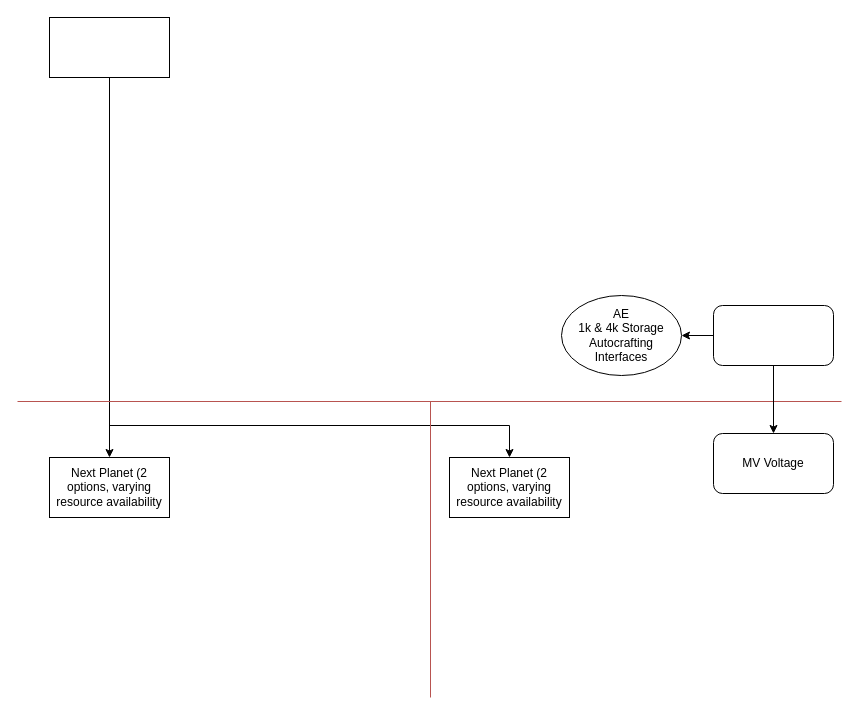
The diagram is 860 pixels wide and 716 high, and some of its shapes have lost their labels. The shapes that lost their labels are listed below. From the top down, each one's box as (x1, y1, x2, y2) in pixels, then its label:
(48, 16, 170, 78): Moon - Starting Dimension
(712, 304, 834, 366): LV Voltage
